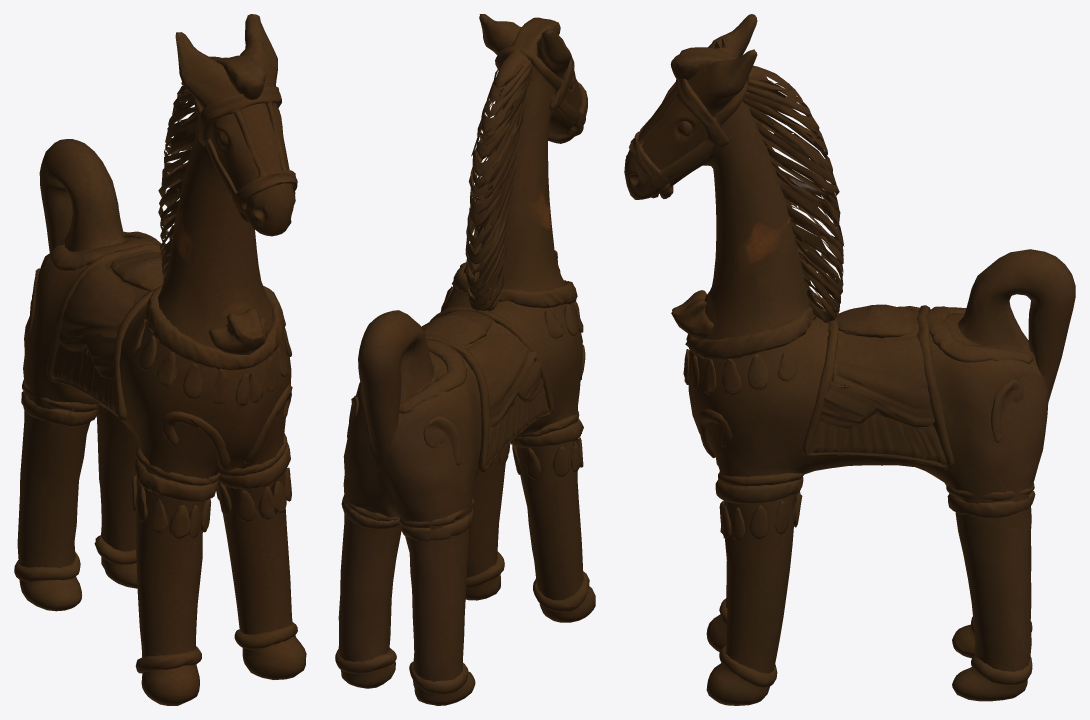
The model's file is horse-figurine.glb.
3 views of the same model, side by side, from view 1: azimuth 30°, elevation 25°; view 2: azimuth 150°, elevation 25°; view 3: azimuth 270°, elevation 25° (orthographic). The views are drawn at different scales.
Parts seen in each view (by area): view 1: horse-figurine; view 2: horse-figurine; view 3: horse-figurine.
Boxes of the visible parts, box(x1,y1,x2,y2) form: horse-figurine: box(14, 14, 306, 705); horse-figurine: box(335, 14, 595, 705); horse-figurine: box(624, 14, 1075, 705).
Bounding box in the file's own units: 0.0942 × 0.38 × 0.2429.
1 material, 1 textured.
